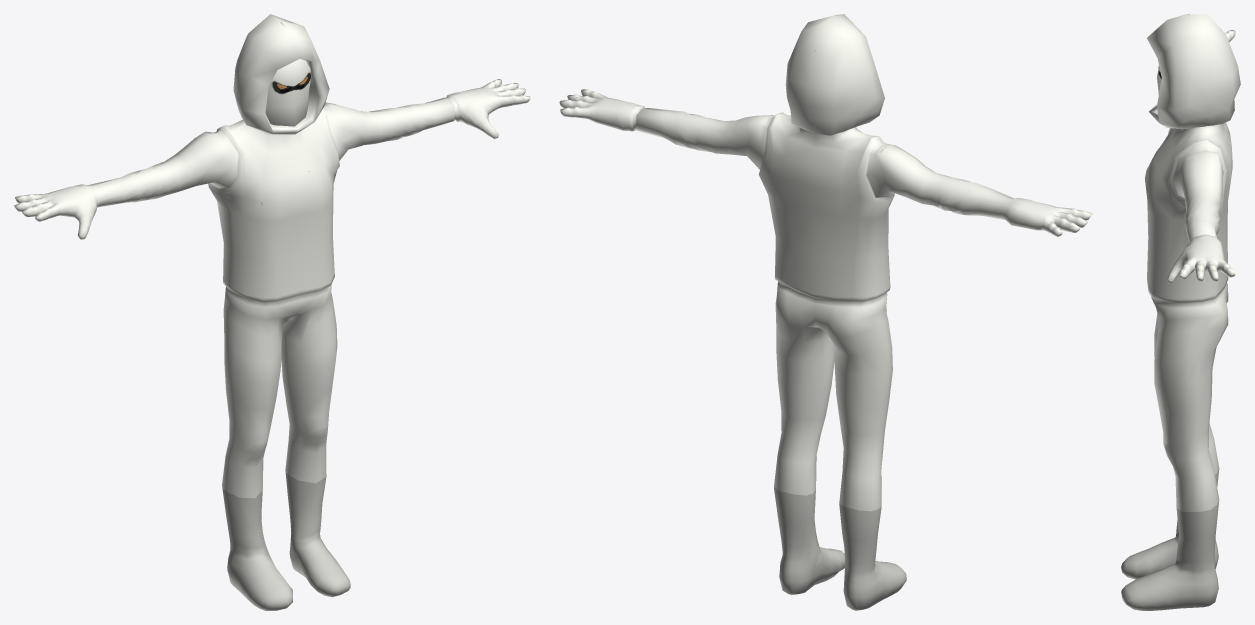
Rendered from Whiteblood cell.fbx.
The picture shows the model from 3 angles, left to right: view 1: azimuth 30°, elevation 25°; view 2: azimuth 150°, elevation 25°; view 3: azimuth 270°, elevation 25°; orthographic projection. The views are drawn at different scales.
Parts seen in each view (by area): view 1: whitebloodcell; view 2: whitebloodcell; view 3: whitebloodcell.
Part boxes in pixels (x1,y1,x2,y2): whitebloodcell: (14, 14, 530, 610); whitebloodcell: (559, 14, 1092, 610); whitebloodcell: (1121, 14, 1240, 610).
Bounding box in the file's own units: 179 × 191 × 35.95.
1 material, 1 textured.
